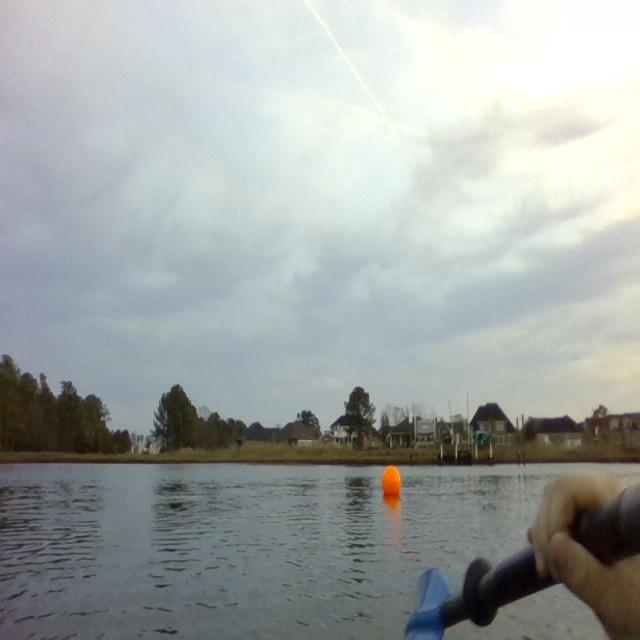Buoy: (380, 461, 404, 501)
